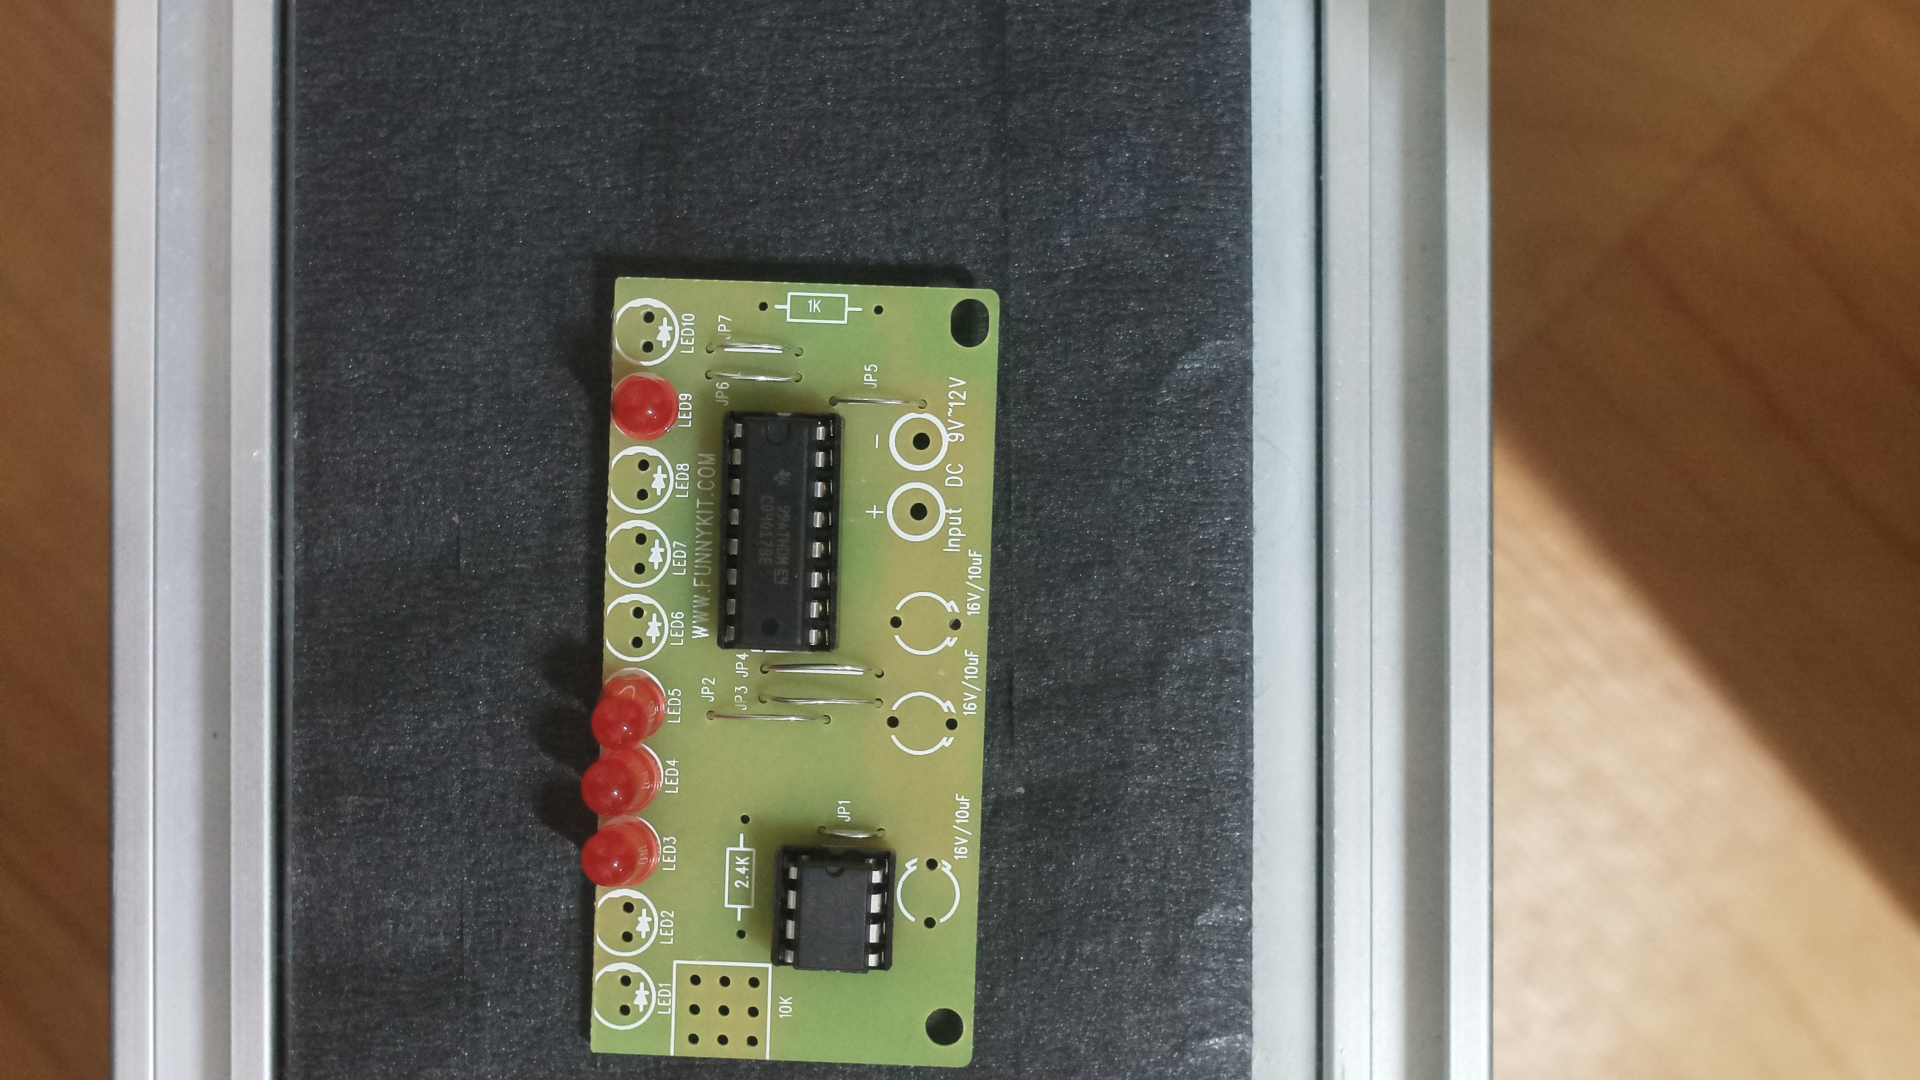B_Missing_part: (571, 252, 1013, 1080)
